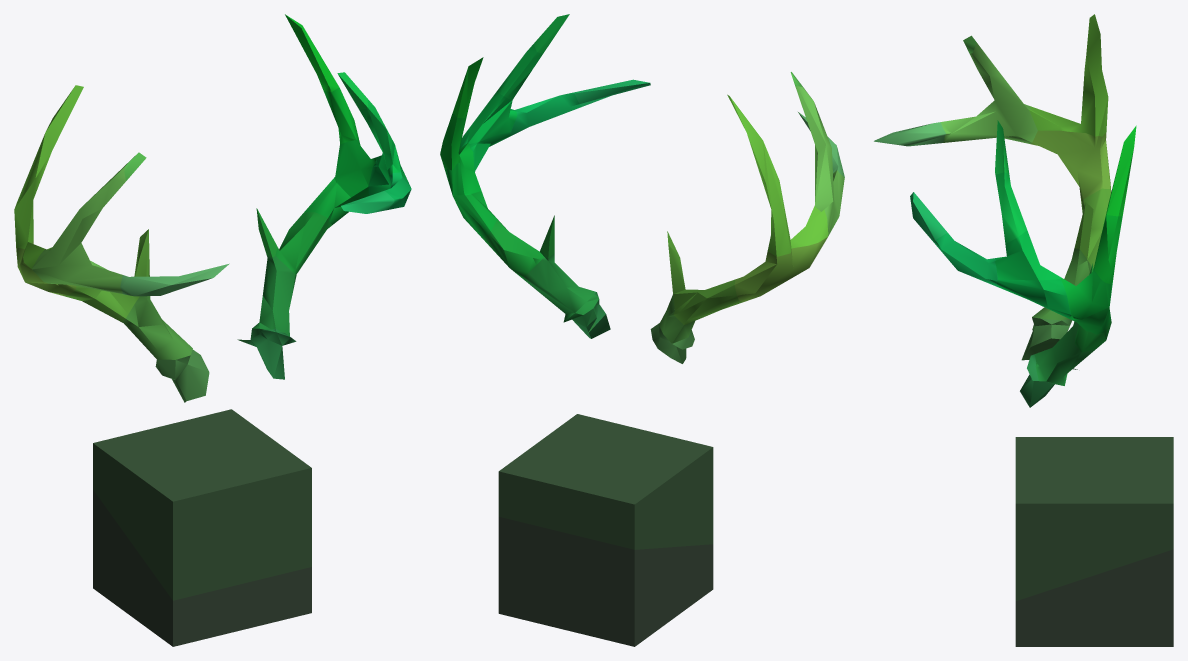
File: vertex_animation_textures1_mesh.fbx
The picture shows the model from 3 angles, left to right: view 1: azimuth 30°, elevation 25°; view 2: azimuth 150°, elevation 25°; view 3: azimuth 270°, elevation 25°; orthographic projection.
Parts seen in each view (by area): view 1: MESH; view 2: MESH; view 3: MESH.
Part boxes in pixels (bbox=[...]): MESH: bbox=[14, 14, 411, 646]; MESH: bbox=[440, 14, 844, 646]; MESH: bbox=[874, 14, 1173, 646].
Size of the model in its own units: 267 by 376 by 190.
